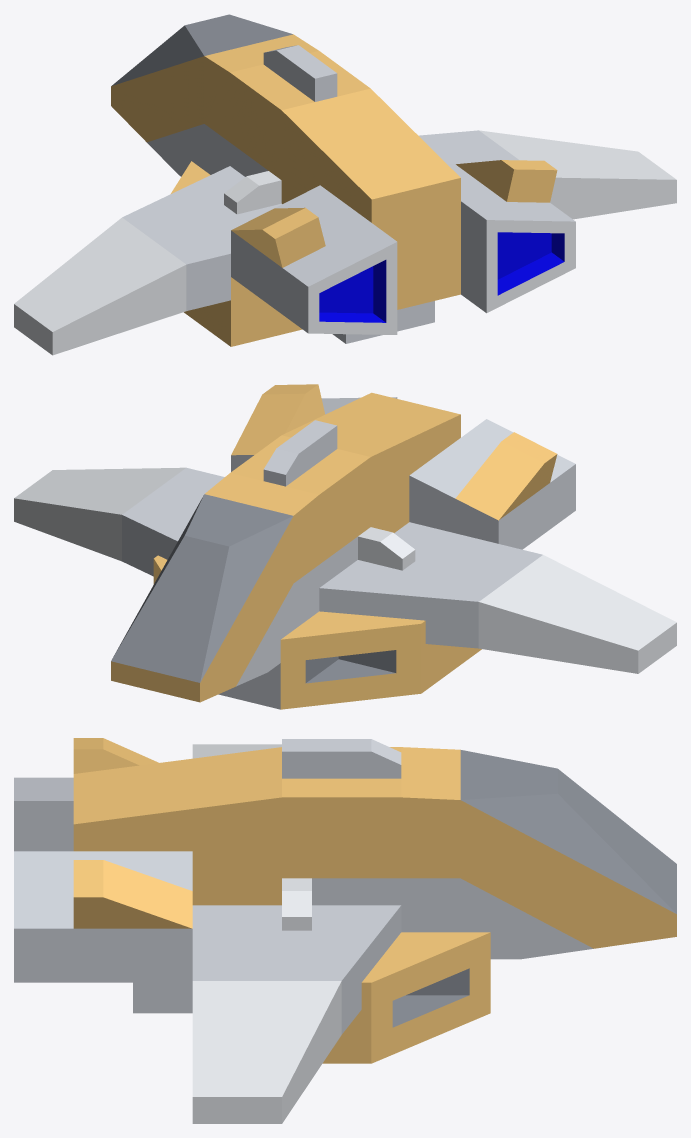
File: craft_speederD_scaled.glb
3 views of the same model, one above another, from view 1: azimuth 30°, elevation 25°; view 2: azimuth 150°, elevation 25°; view 3: azimuth 270°, elevation 25° (orthographic). The views are drawn at different scales.
Parts seen in each view (by area): view 1: craft_speederD; view 2: craft_speederD; view 3: craft_speederD.
Part boxes in pixels (x1=…): craft_speederD: x1=14, y1=14, x2=676, y2=355; craft_speederD: x1=14, y1=384, x2=676, y2=709; craft_speederD: x1=14, y1=738, x2=676, y2=1123.
Size of the model in its own units: 28 by 9 by 22.26.
